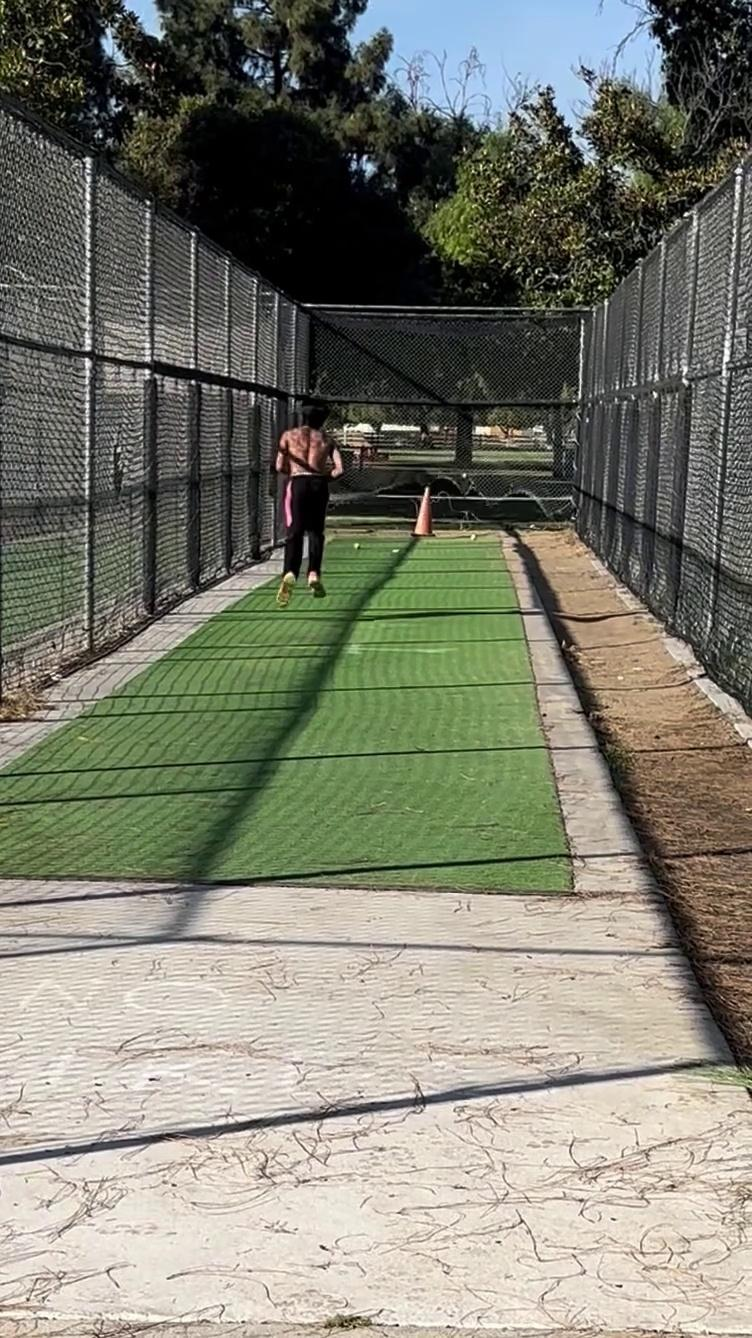ball: (458, 471, 473, 482)
